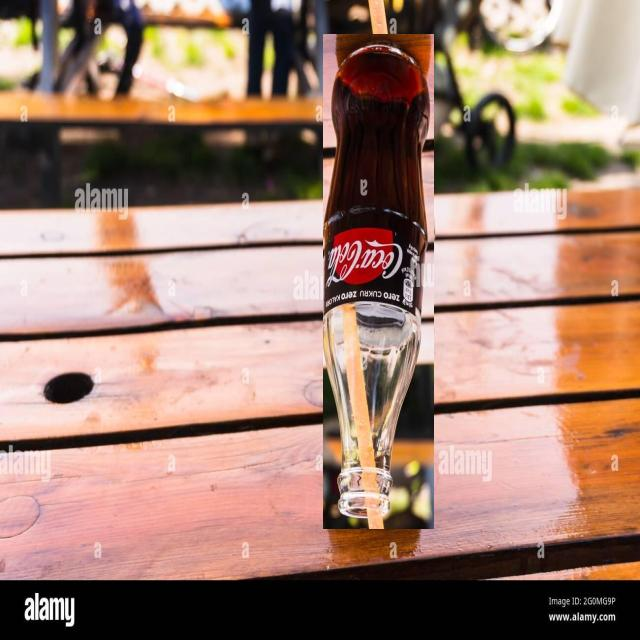coca-cola: (323, 34, 434, 529)
